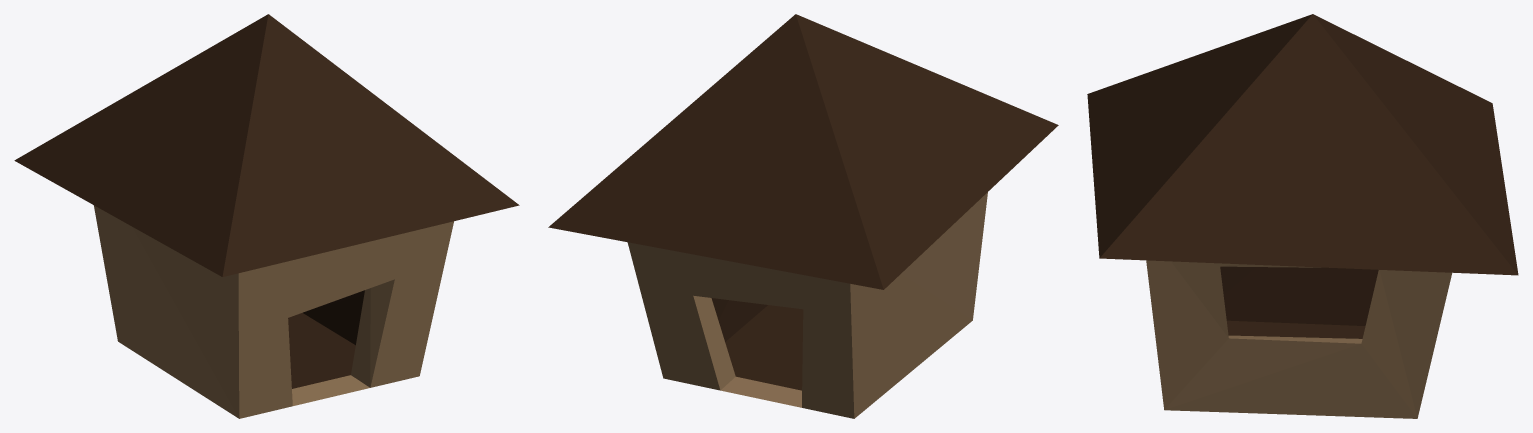
The model's file is CasitaDelMono.fbx.
3 views of the same model, side by side, from view 1: azimuth 30°, elevation 25°; view 2: azimuth 150°, elevation 25°; view 3: azimuth 270°, elevation 25° (orthographic). The views are drawn at different scales.
Parts seen in each view (by area): view 1: pPlane3; view 2: pPlane3; view 3: pPlane3.
Boxes of the visible parts, bbox=[...] form: pPlane3: bbox=[14, 14, 519, 418]; pPlane3: bbox=[548, 14, 1058, 418]; pPlane3: bbox=[1087, 14, 1518, 418].
Size of the model in its own units: 1922 by 1943 by 2090.
